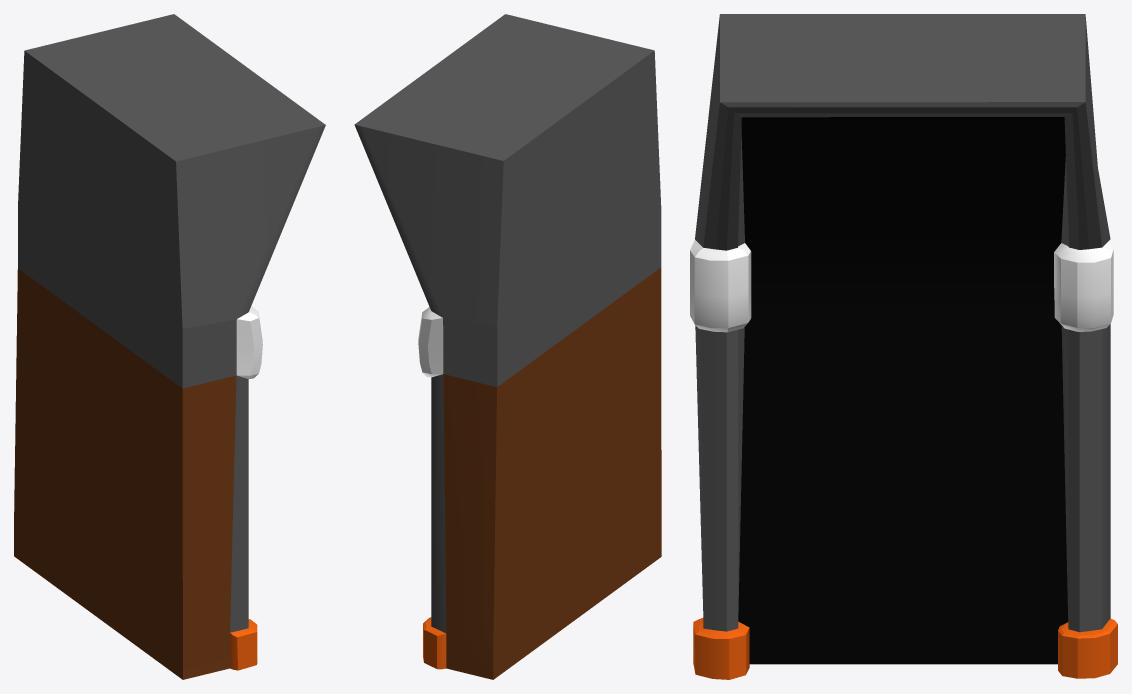
File: PuertaAPuzzle.fbx
3 renders of one model, left to right at view 1: azimuth 30°, elevation 25°; view 2: azimuth 150°, elevation 25°; view 3: azimuth 270°, elevation 25°, orthographic. The views are drawn at different scales.
Visible parts, largest first — view 1: PuertaAPuzzles; view 2: PuertaAPuzzles; view 3: PuertaAPuzzles.
Part boxes in pixels (box(x1,y1,x2,y2)): PuertaAPuzzles: box(14, 14, 325, 679); PuertaAPuzzles: box(354, 14, 661, 679); PuertaAPuzzles: box(690, 14, 1117, 679).
Size of the model in its own units: 177 by 580 by 363.
Materials: 1 (1 with a texture image).
